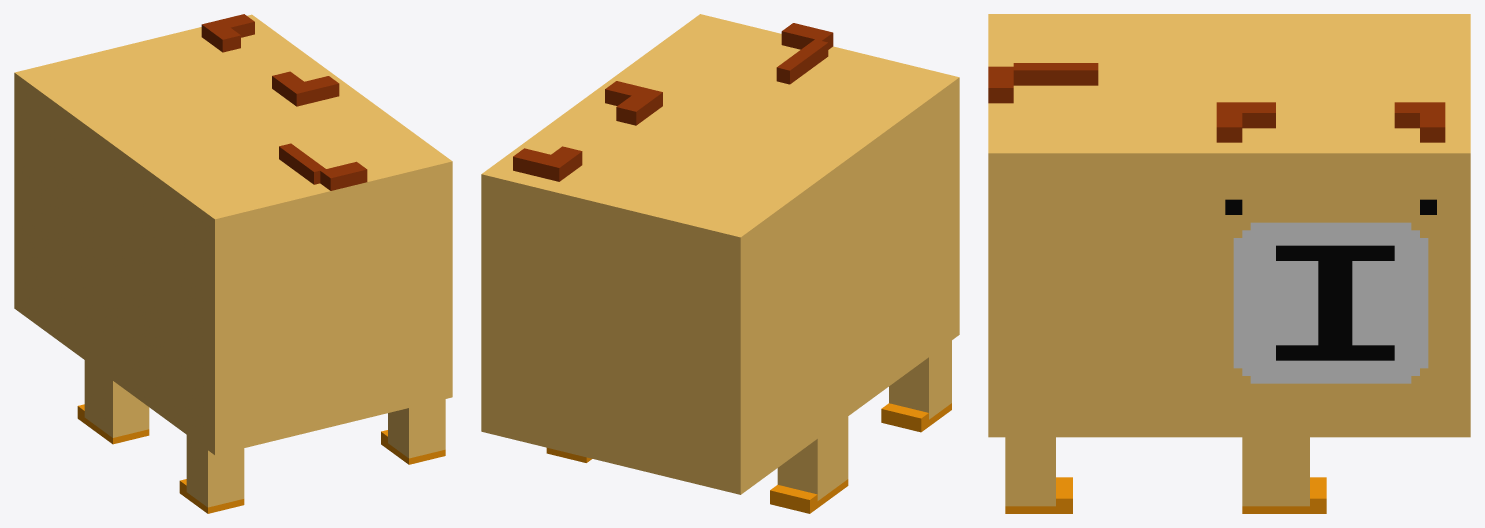
File: dogo.fbx
3 views of the same model, side by side, from view 1: azimuth 30°, elevation 25°; view 2: azimuth 150°, elevation 25°; view 3: azimuth 270°, elevation 25° (orthographic). The views are drawn at different scales.
Parts seen in each view (by area): view 1: Dogo; view 2: Dogo; view 3: Dogo.
Part boxes in pixels (bbox=[...]): Dogo: bbox=[14, 14, 452, 513]; Dogo: bbox=[481, 14, 959, 513]; Dogo: bbox=[988, 14, 1470, 513].
Bounding box in the file's own units: 399 × 502 × 584.
